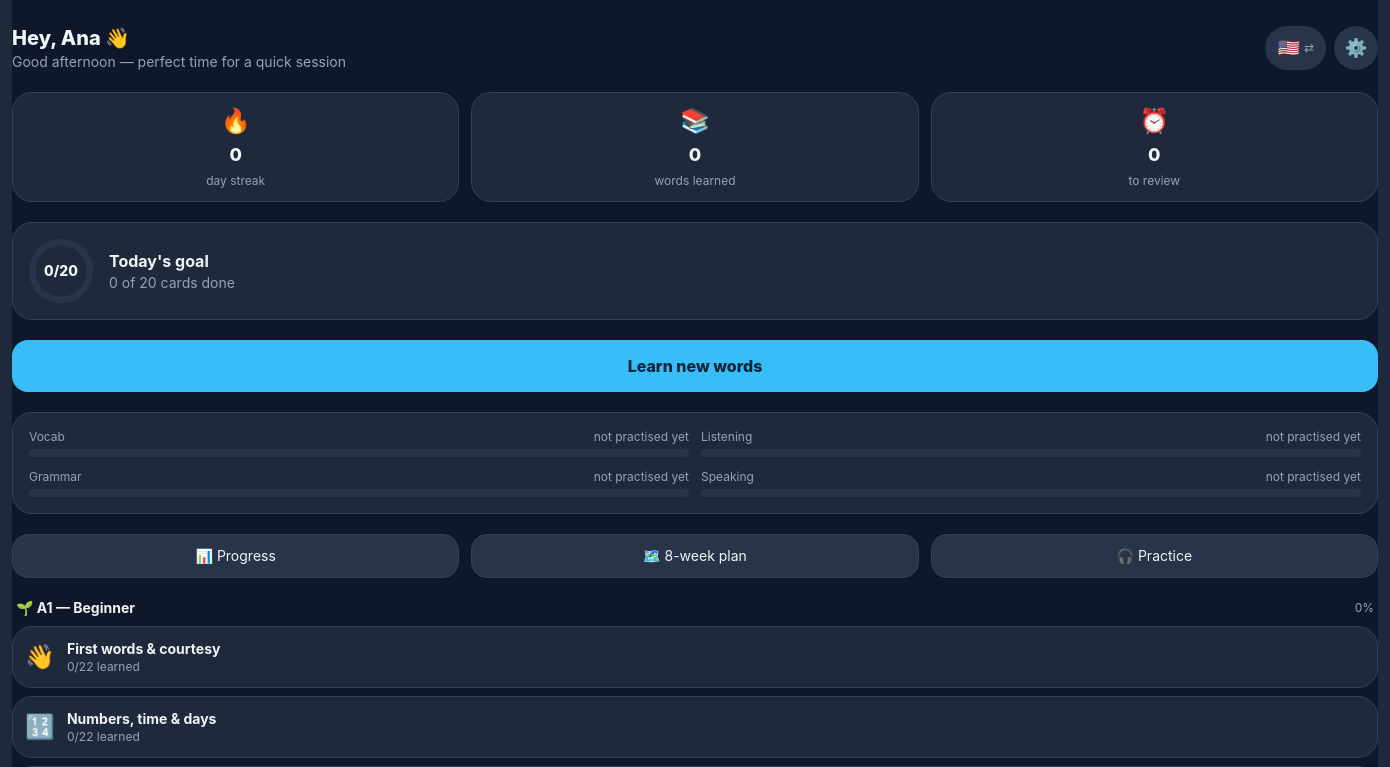
it: course switcher › opens a chip for every other course on tap, not just one
Step 1. Click the button with test id "course-switch" → (1296, 48), box [1266, 26, 1326, 70]
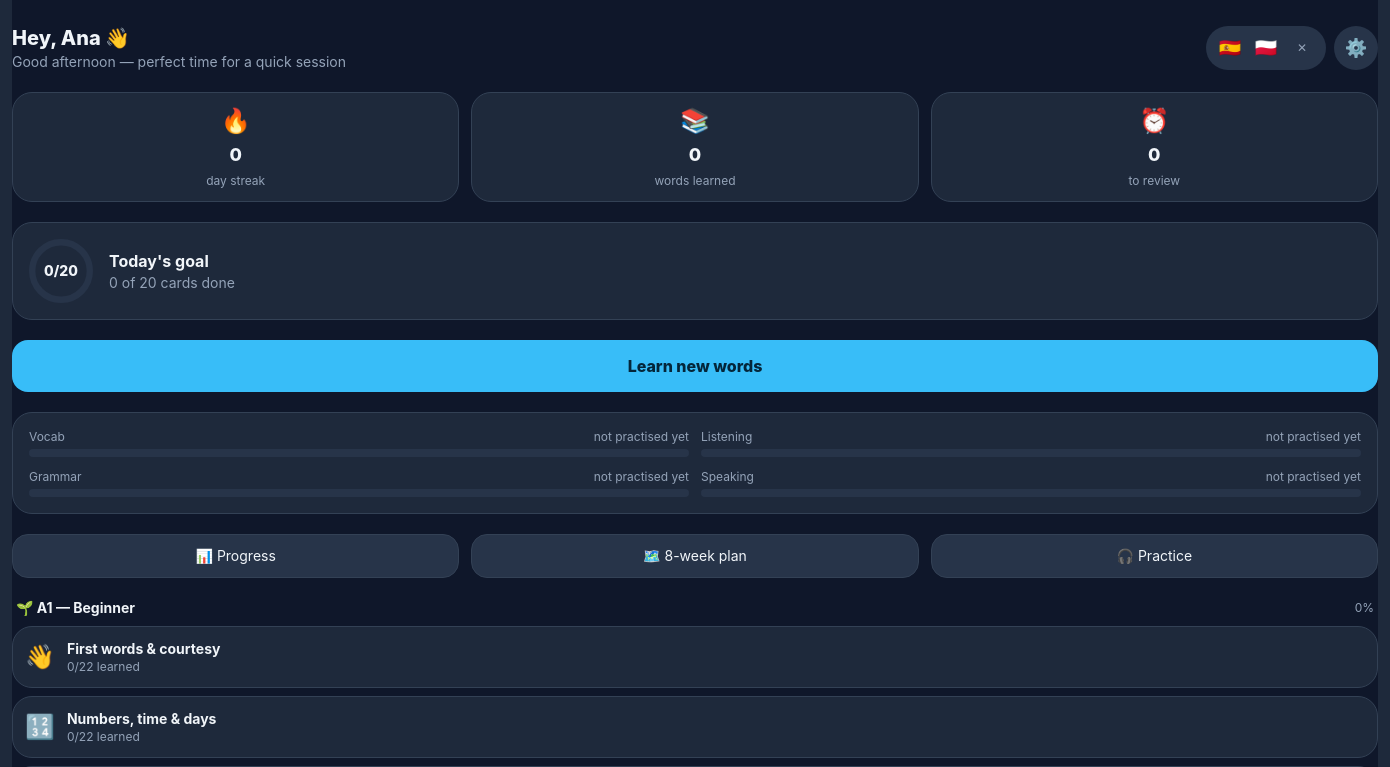
Expected: the button with test id "course-switch-es-latam" is shown, [1214, 32, 1246, 64]
Expected: the button with test id "course-switch-pl-pl" is shown, [1250, 32, 1282, 64]
